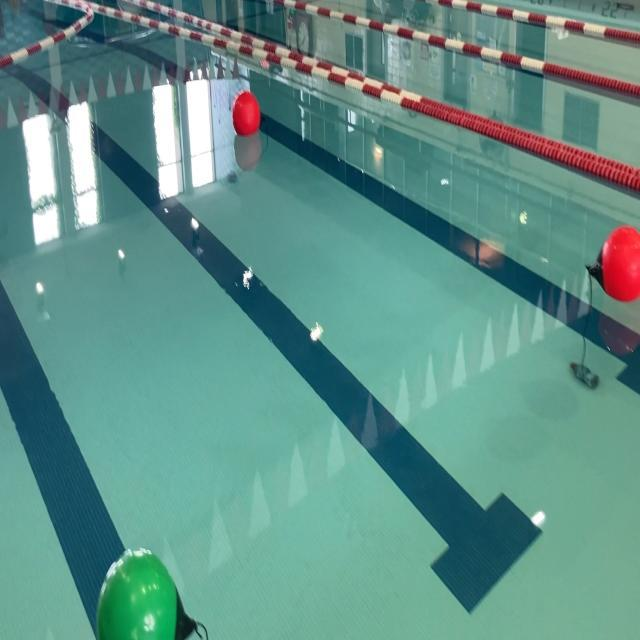buoy: (96, 550, 210, 640), (588, 225, 640, 300), (232, 91, 262, 138)
